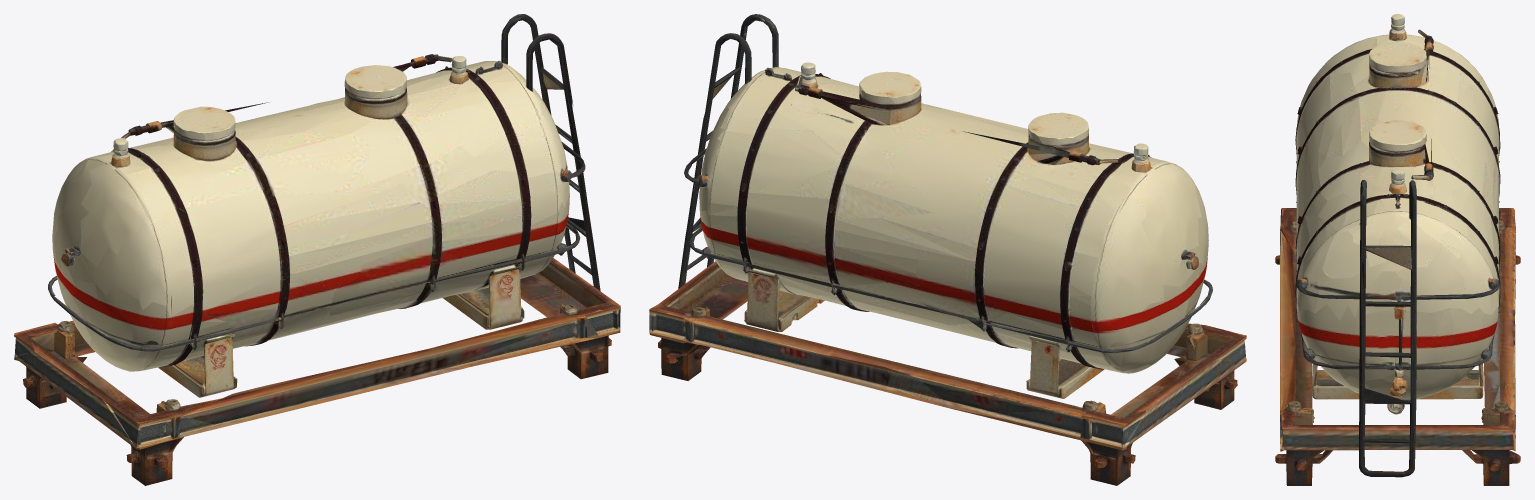
File: fuel_tanks.glb
The picture shows the model from 3 angles, left to right: view 1: azimuth 30°, elevation 25°; view 2: azimuth 150°, elevation 25°; view 3: azimuth 270°, elevation 25°; orthographic projection. The views are drawn at different scales.
Visible parts, largest first — view 1: Mesh_0; view 2: Mesh_0; view 3: Mesh_0.
Part boxes in pixels (x1=…): Mesh_0: x1=14, y1=14, x2=620, y2=485; Mesh_0: x1=649, y1=14, x2=1246, y2=485; Mesh_0: x1=1275, y1=14, x2=1520, y2=485.
Size of the model in its own units: 1.9 by 1.1 by 0.8312.
1 material, 1 textured.
